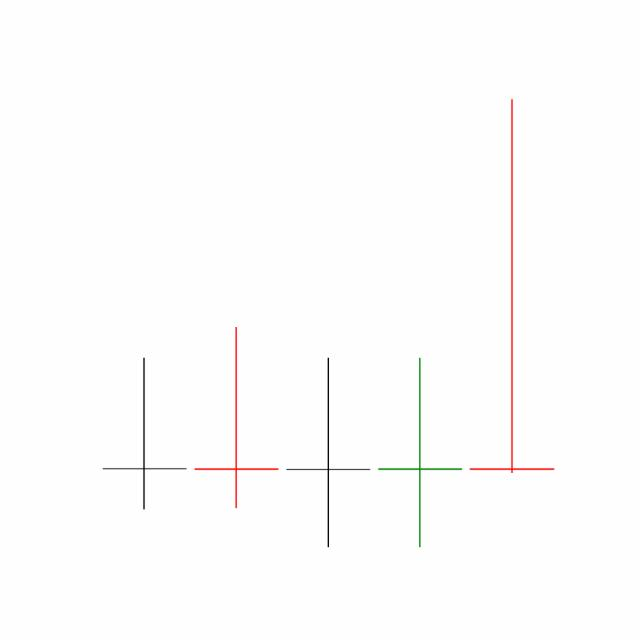Gravestone Doji: (464, 95, 558, 477)
